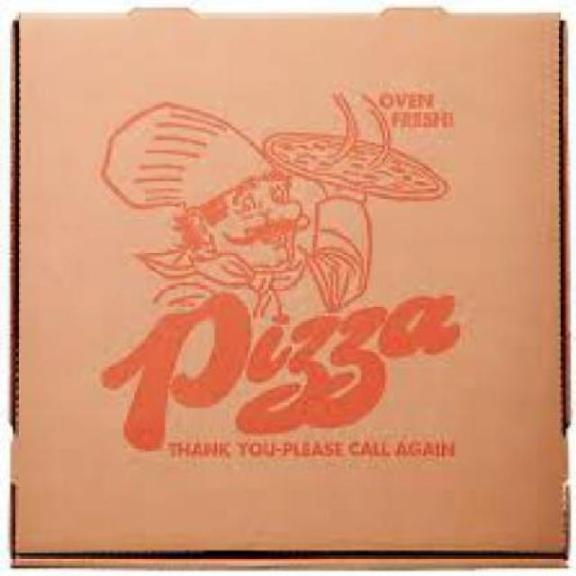Kertas: (13, 9, 567, 566)
